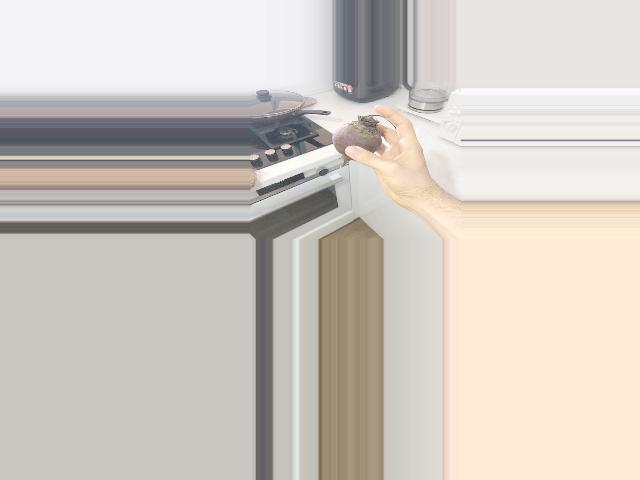beet: (332, 115, 395, 168)
